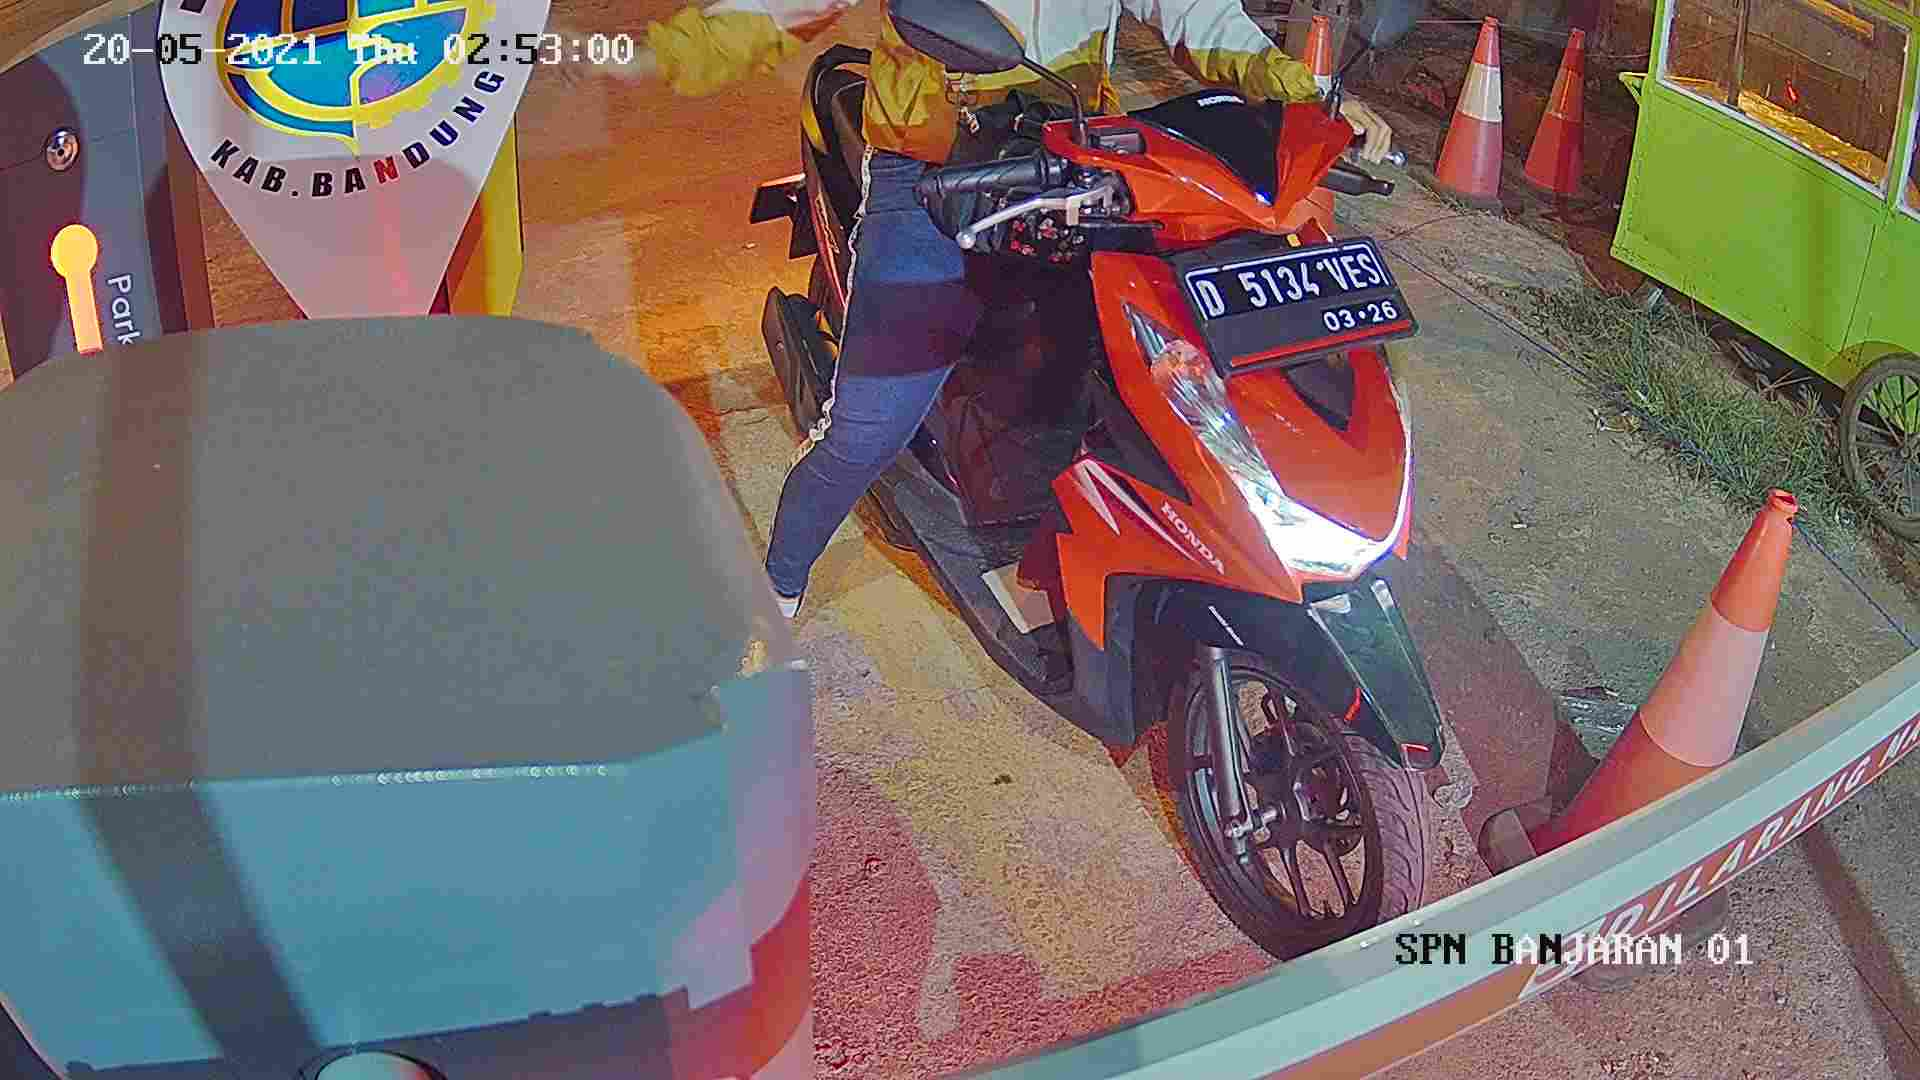motor: (735, 50, 1437, 949)
